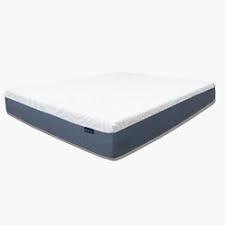bed-matress: (5, 71, 215, 161)
